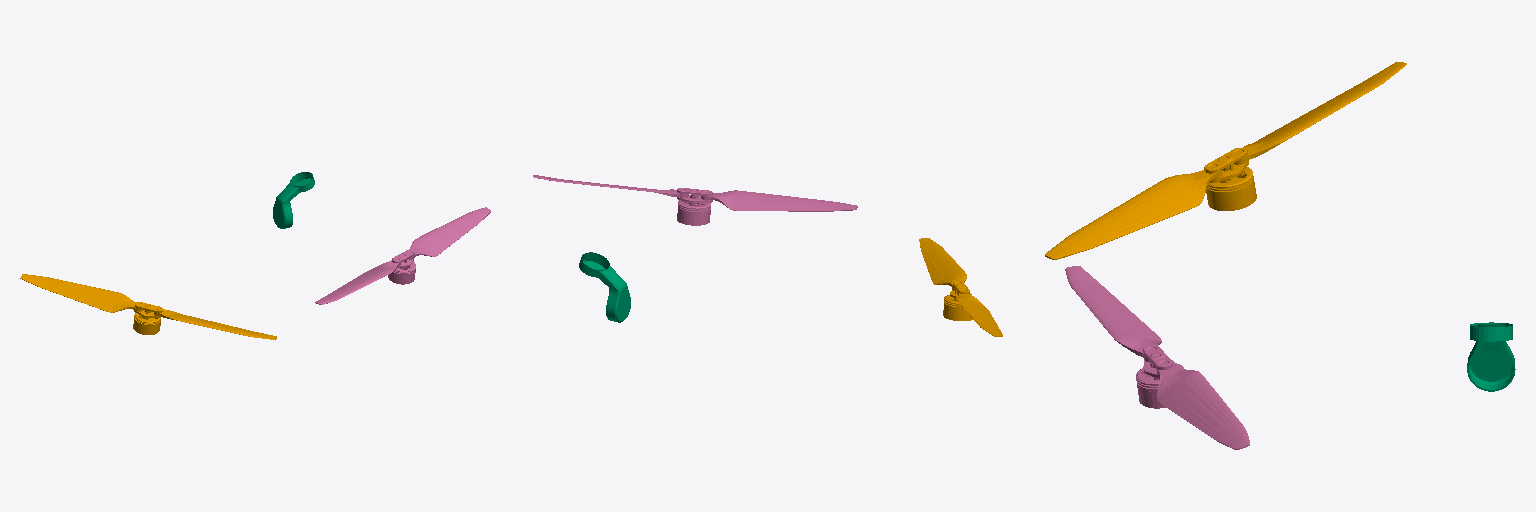
URDF robot description (DJI Mavic 3):
<robot name="DJI Mavic 3">
  <link name="base_link"/>

  <joint name="body_joint" type="fixed">
    <parent link="base_link"/>
    <child  link="body_link"/>
  </joint>

  <link name="body_link">
    <visual>
      <geometry>
        <mesh filename="package://dji_drone_description/meshes/mavic3/body.dae" />
      </geometry>
      <origin xyz="0 0 0" rpy="0 0 0"/>
    </visual>
  </link>

  <joint name="yaw_joint" type="revolute">
    <parent link="body_link"/>
    <child  link="gimbal_0_link"/>
    <origin xyz="0.087593 0 0.037652" rpy="0 0 0"/>
    <axis xyz="-0.353505 0 0.935433"/>
    <limit lower="-0.471239" upper="0.471239" effort="0" velocity="0"/>
  </joint>

  <link name="gimbal_0_link">
    <visual>
      <geometry>
        <mesh filename="package://dji_drone_description/meshes/mavic3/gimbal_0.dae" />
      </geometry>
      <origin xyz="0 0 0" rpy="0 0 0"/>
    </visual>
  </link>

  <joint name="roll_joint" type="revolute">
    <parent link="gimbal_0_link"/>
    <child  link="gimbal_1_link"/>
    <origin xyz="-0.014743 0 -0.032043" rpy="0 0 0"/>
    <axis xyz="1 0 0"/>
    <limit lower="-0.785398" upper="0.785398" effort="0" velocity="0"/>
  </joint>

  <link name="gimbal_1_link">
    <visual>
      <geometry>
        <mesh filename="package://dji_drone_description/meshes/mavic3/gimbal_1.dae" />
      </geometry>
      <origin xyz="0 0 0" rpy="0 0 0"/>
    </visual>
  </link>

  <joint name="pitch_joint" type="revolute">
    <parent link="gimbal_1_link"/>
    <child  link="camera_link"/>
    <origin xyz="0.0339 0 0.000792" rpy="0 0 0"/>
    <axis xyz="0 1 0"/>
    <limit lower="-1.74533" upper="2.35619" effort="0" velocity="0"/>
  </joint>

  <link name="camera_link">
    <visual>
      <geometry>
        <mesh filename="package://dji_drone_description/meshes/mavic3/camera.dae" />
      </geometry>
      <origin xyz="0 0 0" rpy="0 0 0"/>
    </visual>
  </link>

  <joint name="motor_lf_joint" type="continuous">
    <parent link="body_link"/>
    <child  link="motor_lf_link"/>
    <origin xyz="0.098178 0.159983 0.003555" rpy="0 0 0"/>
    <axis xyz="-0.016012 -0.130219 -0.991356"/>
  </joint>  

    <link name="motor_lf_link">
    <visual>
      <geometry>
        <mesh filename="package://dji_drone_description/meshes/mavic3/motor_lf.dae" />
      </geometry>
      <origin xyz="0 0 0" rpy="0 0 0"/>
    </visual>
  </link>

  <joint name="motor_rf_joint" type="continuous">
    <parent link="body_link"/>
    <child  link="motor_rf_link"/>
    <origin xyz="0.098176 -0.159967 0.003439" rpy="0 0 0"/>
    <axis xyz="0.016012 -0.130219 0.991356"/>
  </joint>  

  <link name="motor_rf_link">
    <visual>
      <geometry>
        <mesh filename="package://dji_drone_description/meshes/mavic3/motor_rf.dae" />
      </geometry>
      <origin xyz="0 0 0" rpy="0 0 0"/>
    </visual>
  </link>

  <joint name="motor_lb_joint" type="continuous">
    <parent link="body_link"/>
    <child  link="motor_lb_link"/>
    <origin xyz="-0.144319 0.126426 -0.003296" rpy="0 0 0"/>s
    <axis xyz="0.023843 0.142307 0.989535"/>
  </joint>  

  <link name="motor_lb_link">
    <visual>
      <geometry>
        <mesh filename="package://dji_drone_description/meshes/mavic3/motor_lb.dae" />
      </geometry>
      <origin xyz="0 0 0" rpy="0 0 0"/>
    </visual>
  </link>

  <joint name="motor_rb_joint" type="continuous">
    <parent link="body_link"/>
    <child  link="motor_rb_link"/>
    <origin xyz="-0.144317 -0.126434 -0.003243" rpy="0 0 0"/>
    <axis xyz="-0.023843 0.142307 -0.989535"/>
  </joint>  

    <link name="motor_rb_link">
    <visual>
      <geometry>
        <mesh filename="package://dji_drone_description/meshes/mavic3/motor_rb.dae" />
      </geometry>
      <origin xyz="0 0 0" rpy="0 0 0"/>
    </visual>
  </link>
</robot>

--- Render facts (derived) ---
Views: 3 orthographic renders of the robot side by side, from view 1: azimuth 30°, elevation 25°; view 2: azimuth 150°, elevation 25°; view 3: azimuth 270°, elevation 25°.
Model DJI Mavic 3 with 9 links and 8 joints (3 revolute, 4 continuous, 1 fixed), rooted at base_link, posed all joints at 0.
Visible links, largest first — view 1: motor_rb_link, motor_rf_link, gimbal_0_link; view 2: motor_rf_link, motor_rb_link, gimbal_0_link; view 3: motor_rb_link, motor_rf_link, gimbal_0_link.
Link boxes in pixels (x1,y1,x2,y2): motor_rb_link: (20, 274, 276, 339); motor_rf_link: (315, 207, 490, 304); gimbal_0_link: (273, 172, 314, 228); motor_rf_link: (533, 175, 857, 225); motor_rb_link: (919, 238, 1002, 336); gimbal_0_link: (579, 252, 630, 322); motor_rb_link: (1045, 62, 1406, 259); motor_rf_link: (1065, 266, 1249, 449); gimbal_0_link: (1467, 322, 1515, 391).
Bounding box of the posed robot: 0.4384 × 0.23 × 0.0465 m (x, y, z).
3 mesh visuals loaded from 8 distinct referenced files (3 Collada DAE); not drawn: 5 (reference not matched to a file when rendering).